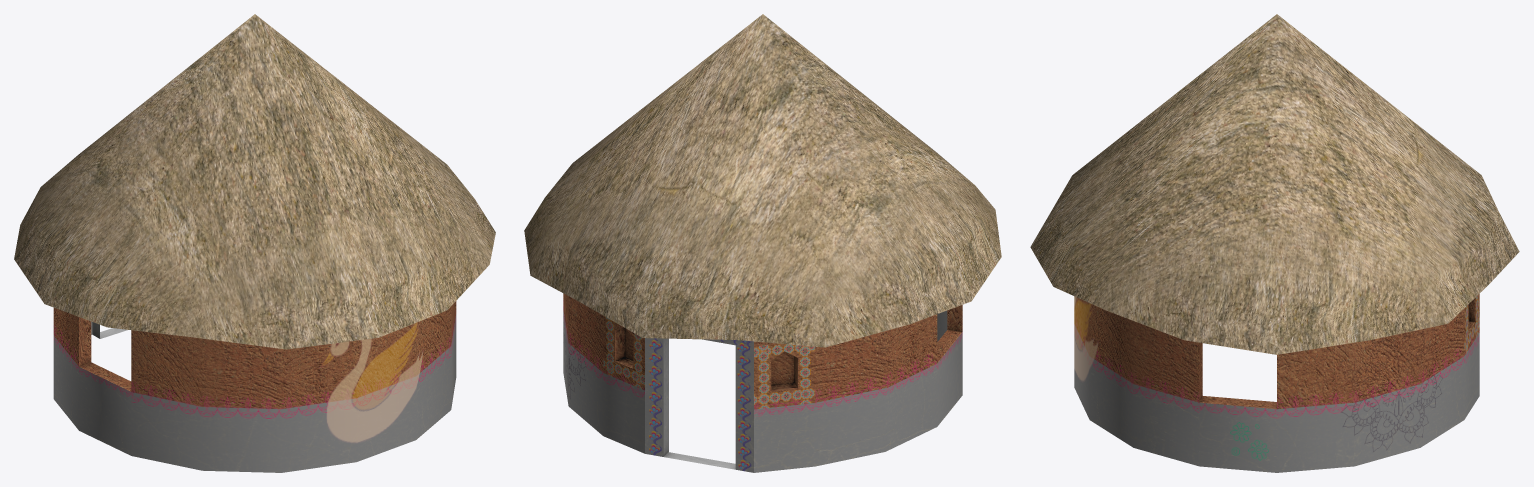
File: village_hut_house_21_tyn9.glb
The picture shows the model from 3 angles, left to right: view 1: azimuth 30°, elevation 25°; view 2: azimuth 150°, elevation 25°; view 3: azimuth 270°, elevation 25°; orthographic projection.
Visible parts, largest first — view 1: Circle.001; view 2: Circle.001; view 3: Circle.001.
Part boxes in pixels (bbox=[...]): Circle.001: bbox=[14, 14, 495, 472]; Circle.001: bbox=[524, 14, 1001, 472]; Circle.001: bbox=[1030, 14, 1519, 472].
Bounding box in the file's own units: 2.39 × 2.03 × 2.41.
1 material, 1 textured.
